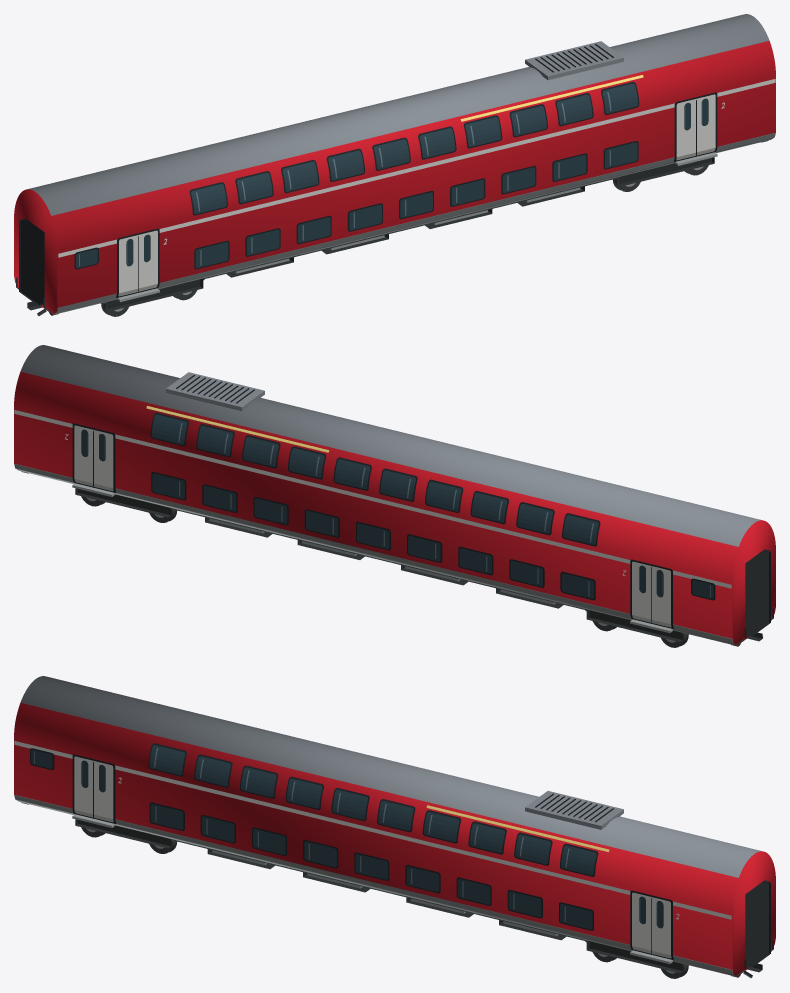
The model's file is mixed_class.glb.
3 renders of one model, top to bottom at view 1: azimuth 30°, elevation 25°; view 2: azimuth 150°, elevation 25°; view 3: azimuth 330°, elevation 25°, orthographic.
Visible parts, largest first — view 1: r3_continuous_rounded_shell, r3_skirt_mixed_class_-1, r3_white_belt_mixed_class_-1, r3_door_leaf_mixed_class_-1_0, r3_door_leaf_mixed_class_-1_1, r3_low_profile_hvac, r3_bellows_mixed_class_-1_4, r3_mixed_class_bogie_0_sideframe_-1, r3_mixed_class_bogie_1_sideframe_-1, r3_mixed_class_upper_-1_1_pane, r3_mixed_class_upper_-1_5_pane, r3_mixed_class_upper_-1_8_pane (+18 smaller); view 2: r3_continuous_rounded_shell, r3_skirt_mixed_class_1, r3_white_belt_mixed_class_1, r3_door_leaf_mixed_class_1_0, r3_door_leaf_mixed_class_1_1, r3_low_profile_hvac, r3_bellows_mixed_class_-1_4, r3_mixed_class_bogie_0, r3_mixed_class_bogie_1, r3_mixed_class_upper_1_1_pane, r3_mixed_class_upper_1_5_pane, r3_mixed_class_upper_1_8_pane (+18 smaller); view 3: r3_continuous_rounded_shell, r3_skirt_mixed_class_-1, r3_white_belt_mixed_class_-1, r3_door_leaf_mixed_class_-1_1, r3_door_leaf_mixed_class_-1_0, r3_low_profile_hvac, r3_bellows_mixed_class_1_4, r3_mixed_class_bogie_1_sideframe_-1, r3_mixed_class_bogie_0_sideframe_-1, r3_mixed_class_upper_-1_0_pane, r3_mixed_class_upper_-1_3_pane, r3_mixed_class_upper_-1_7_pane (+18 smaller).
Part boxes in pixels (x1,y1,x2,y2): r3_continuous_rounded_shell: (14, 14, 775, 314); r3_skirt_mixed_class_-1: (57, 133, 775, 312); r3_white_belt_mixed_class_-1: (58, 79, 775, 257); r3_door_leaf_mixed_class_-1_0: (118, 230, 157, 296); r3_door_leaf_mixed_class_-1_1: (676, 94, 715, 160); r3_low_profile_hvac: (525, 41, 623, 80); r3_bellows_mixed_class_-1_4: (19, 219, 39, 305); r3_mixed_class_bogie_0_sideframe_-1: (107, 278, 203, 310); r3_mixed_class_bogie_1_sideframe_-1: (619, 157, 714, 186); r3_mixed_class_upper_-1_1_pane: (237, 173, 272, 202); r3_mixed_class_upper_-1_5_pane: (419, 128, 455, 158); r3_mixed_class_upper_-1_8_pane: (557, 94, 592, 124); r3_continuous_rounded_shell: (14, 345, 775, 645); r3_skirt_mixed_class_1: (14, 464, 732, 643); r3_white_belt_mixed_class_1: (14, 410, 731, 588); r3_door_leaf_mixed_class_1_0: (632, 561, 671, 627); r3_door_leaf_mixed_class_1_1: (74, 425, 113, 491); r3_low_profile_hvac: (166, 372, 264, 411); r3_bellows_mixed_class_-1_4: (750, 550, 770, 636); r3_mixed_class_bogie_0: (586, 609, 688, 647); r3_mixed_class_bogie_1: (75, 488, 176, 522); r3_mixed_class_upper_1_1_pane: (517, 504, 552, 533); r3_mixed_class_upper_1_5_pane: (334, 459, 370, 489); r3_mixed_class_upper_1_8_pane: (197, 425, 232, 455); r3_continuous_rounded_shell: (14, 676, 775, 976); r3_skirt_mixed_class_-1: (14, 795, 732, 974); r3_white_belt_mixed_class_-1: (14, 741, 731, 919); r3_door_leaf_mixed_class_-1_1: (632, 892, 671, 958); r3_door_leaf_mixed_class_-1_0: (74, 756, 113, 822); r3_low_profile_hvac: (525, 791, 623, 829); r3_bellows_mixed_class_1_4: (750, 881, 770, 967); r3_mixed_class_bogie_1_sideframe_-1: (586, 940, 682, 972); r3_mixed_class_bogie_0_sideframe_-1: (75, 819, 170, 848); r3_mixed_class_upper_-1_0_pane: (149, 745, 185, 775); r3_mixed_class_upper_-1_3_pane: (286, 778, 322, 808); r3_mixed_class_upper_-1_7_pane: (469, 823, 505, 853).
Bounding box in the file's own units: 26.96 × 4.76 × 3.04.
